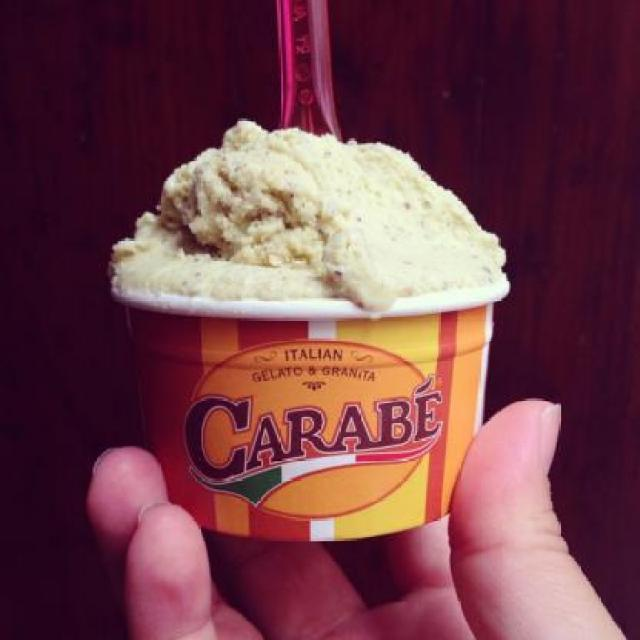Ice cream: (102, 118, 507, 320)
